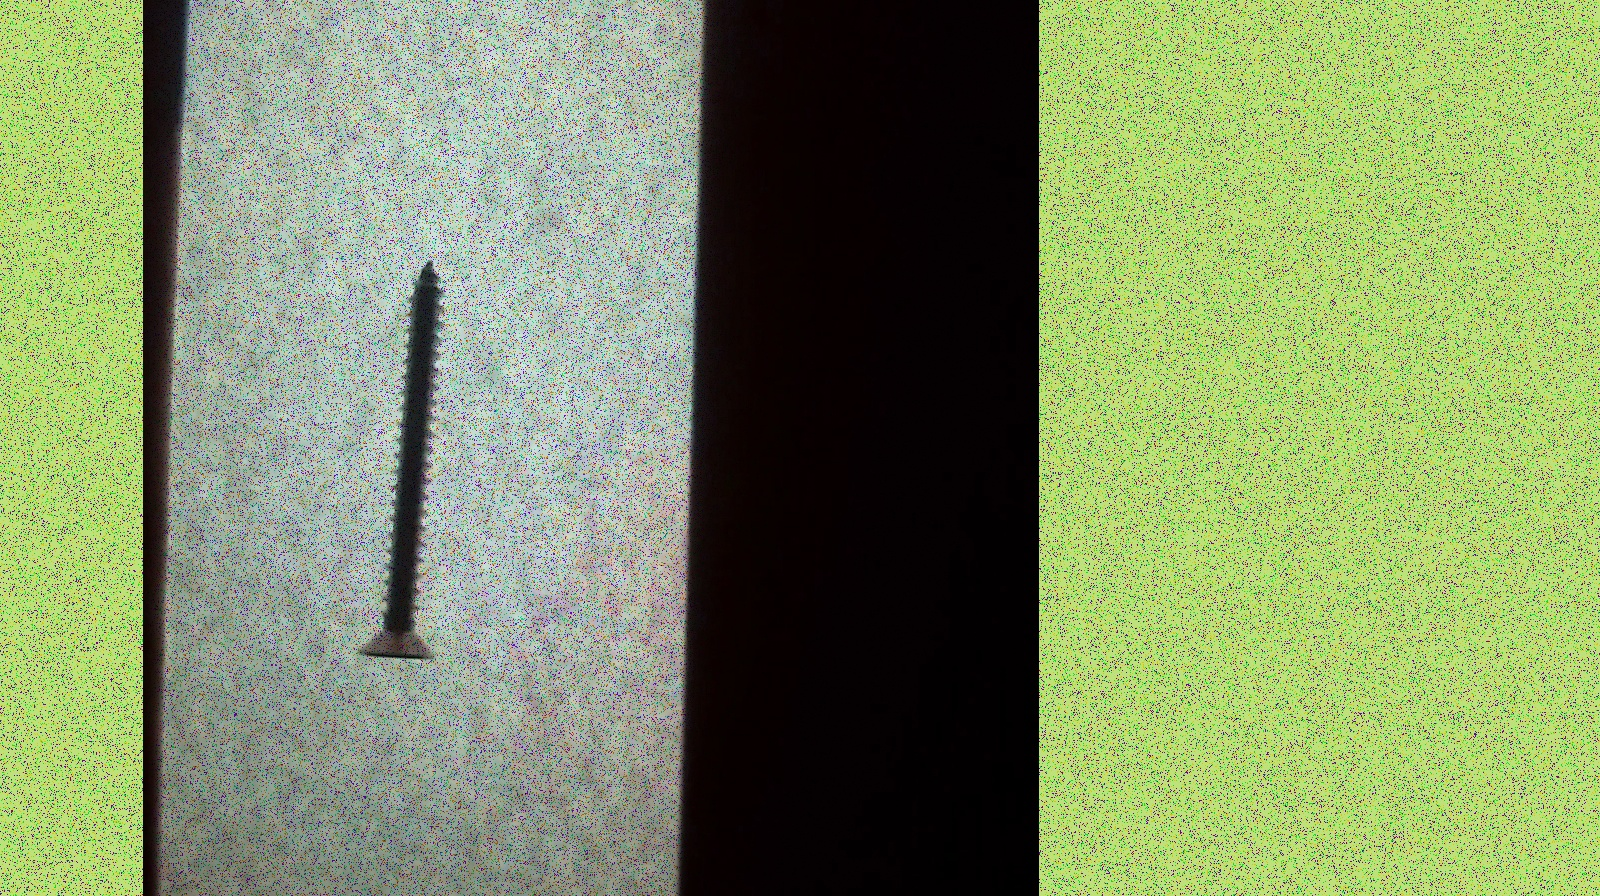S002: (345, 233, 467, 682)
